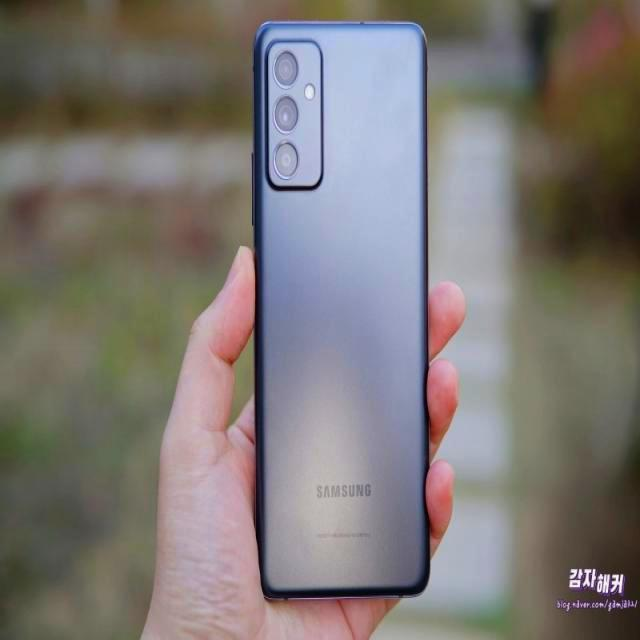phone: (247, 16, 434, 605)
